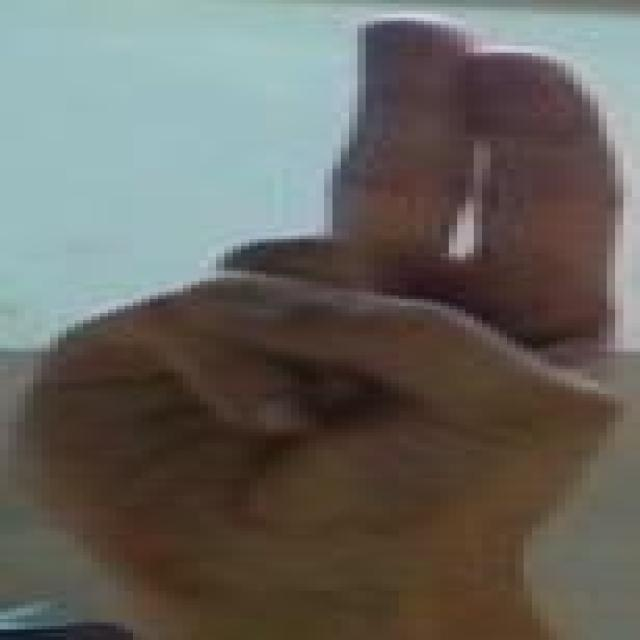U: (50, 8, 640, 570)
